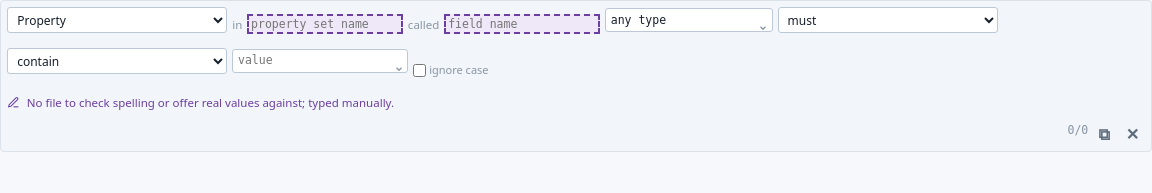
Test: ManualConditionRow › gates its completeness error the same way ConditionRow does
This screenshot has width=1152, height=193.
Expected: the text "Enter a value" is not shown
Click the field labelled "field name" at x=522, y=24, box x1=444 y1=14 x2=600 y2=34
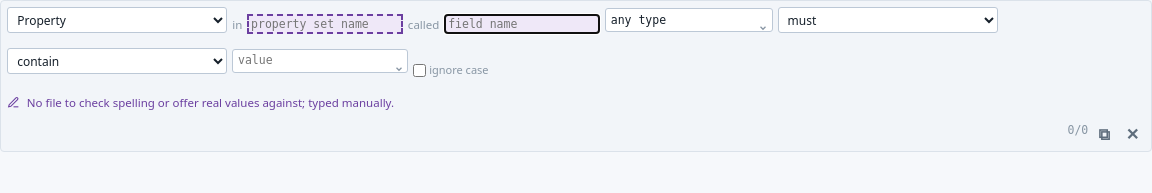
Press Tab
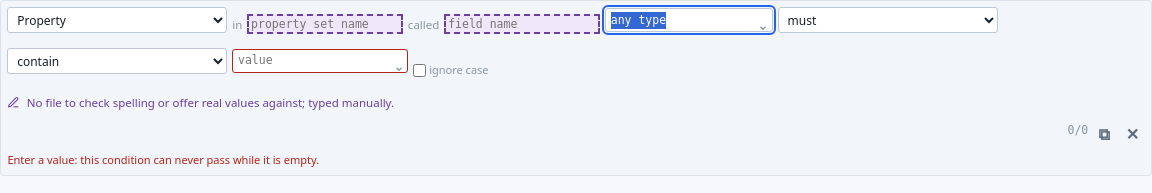
Now the text "Enter a value" is shown, box x1=7 y1=152 x2=319 y2=167
